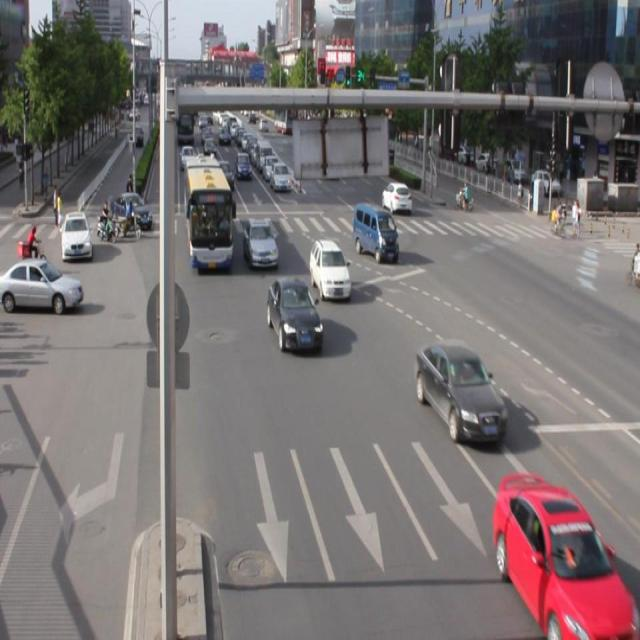car: (492, 471, 630, 640), (413, 338, 506, 443), (267, 274, 323, 352), (309, 238, 351, 297), (243, 216, 278, 268)
truck: (352, 201, 398, 261)
van: (184, 154, 232, 270)
